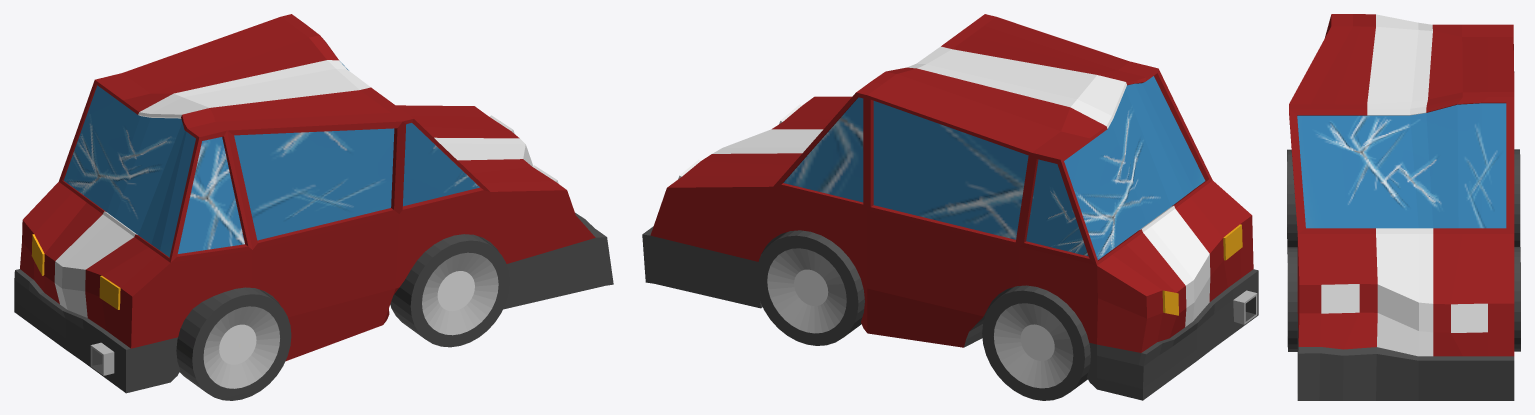
The model's file is player_var1.fbx.
The picture shows the model from 3 angles, left to right: view 1: azimuth 30°, elevation 25°; view 2: azimuth 150°, elevation 25°; view 3: azimuth 270°, elevation 25°; orthographic projection. The views are drawn at different scales.
Parts seen in each view (by area): view 1: Cube.014, Cylinder.051, Cylinder.052; view 2: Cube.014, Cylinder.050, Cylinder.053; view 3: Cube.014, Cylinder.052, Cylinder.051, Cylinder.050, Cylinder.053.
Boxes of the visible parts, box(x1,y1,x2,y2) form: Cube.014: box(14, 14, 613, 393); Cylinder.051: box(176, 287, 291, 400); Cylinder.052: box(390, 234, 509, 347); Cube.014: box(642, 14, 1258, 400); Cylinder.050: box(755, 230, 864, 345); Cylinder.053: box(982, 285, 1090, 400); Cube.014: box(1289, 14, 1514, 400); Cylinder.052: box(1287, 247, 1297, 351); Cylinder.051: box(1287, 149, 1297, 253); Cylinder.050: box(1514, 247, 1520, 351); Cylinder.053: box(1514, 149, 1520, 246).
Size of the model in its own units: 206 by 100 by 92.11.
